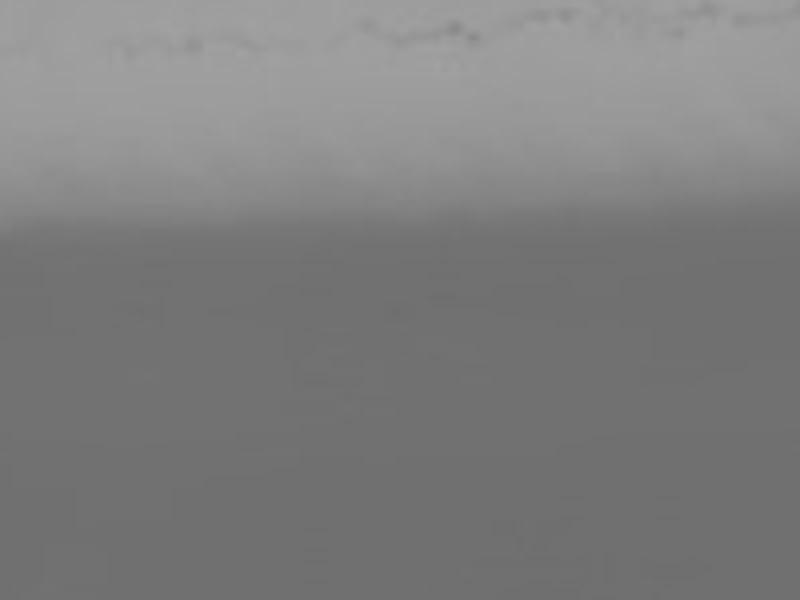defect: (575, 20, 608, 49), (521, 2, 554, 29), (726, 9, 761, 31), (556, 1, 580, 33), (659, 23, 695, 42), (181, 35, 210, 58), (354, 11, 380, 35), (121, 39, 142, 68), (693, 1, 719, 23), (388, 30, 414, 51), (464, 30, 485, 47), (444, 17, 463, 33)
